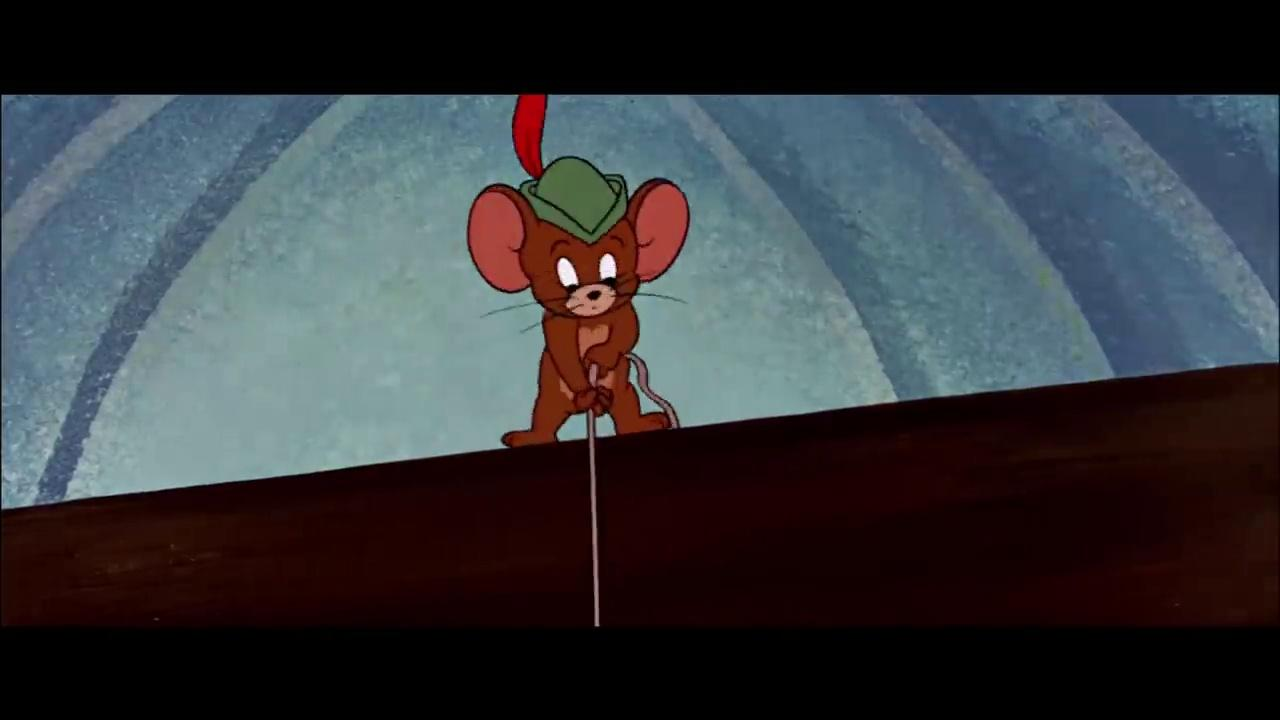Jerry: (465, 173, 692, 448)
